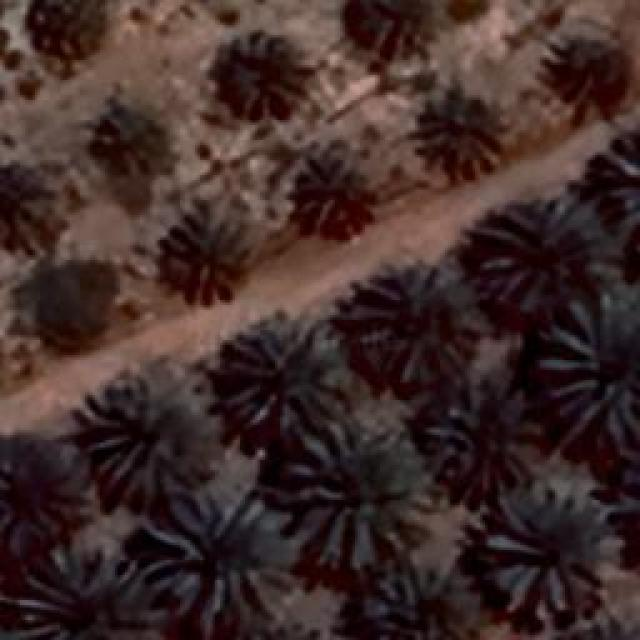PalmTree: (38, 123, 598, 626), (84, 27, 621, 185), (280, 417, 438, 565), (140, 492, 290, 618), (80, 368, 220, 502), (340, 260, 490, 385), (480, 484, 615, 618), (538, 294, 638, 448), (220, 310, 348, 430), (9, 542, 162, 638), (467, 195, 585, 300), (430, 380, 542, 490), (0, 425, 85, 550), (370, 560, 482, 638), (82, 95, 176, 183), (162, 218, 242, 316), (548, 34, 632, 122), (424, 98, 508, 180), (224, 32, 306, 108), (345, 0, 450, 55), (30, 0, 105, 75), (294, 152, 372, 222), (0, 163, 62, 251), (614, 434, 640, 562)
